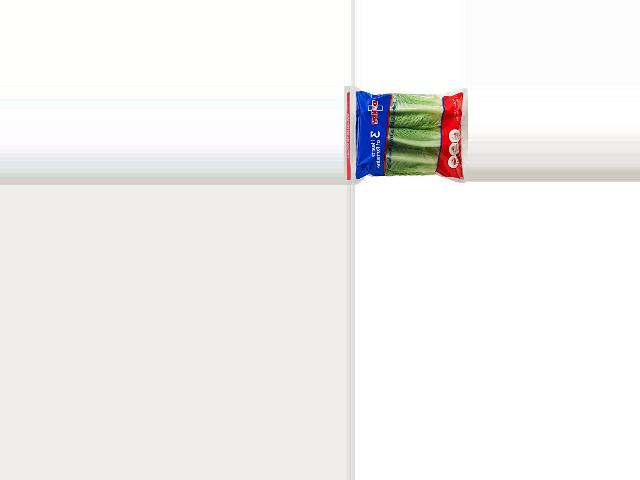lettuce: (350, 86, 467, 180)
